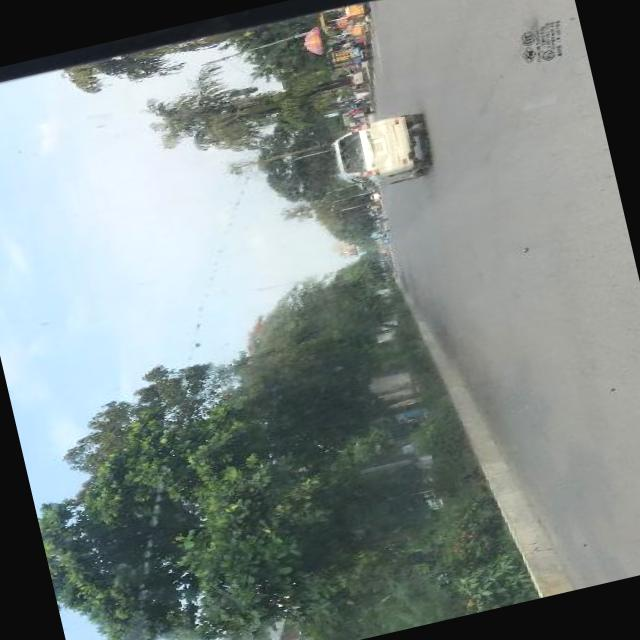car: (325, 108, 434, 194), (367, 188, 381, 200)
motorcycle: (369, 213, 386, 223), (372, 226, 389, 234)
